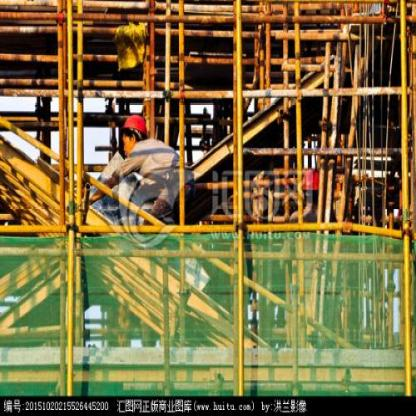helmet: (115, 111, 150, 153)
